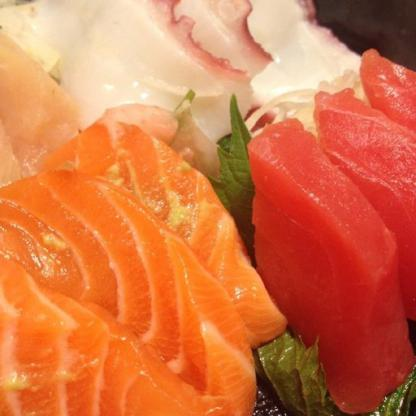salmon: (0, 133, 272, 415)
tuna: (250, 59, 415, 409)
